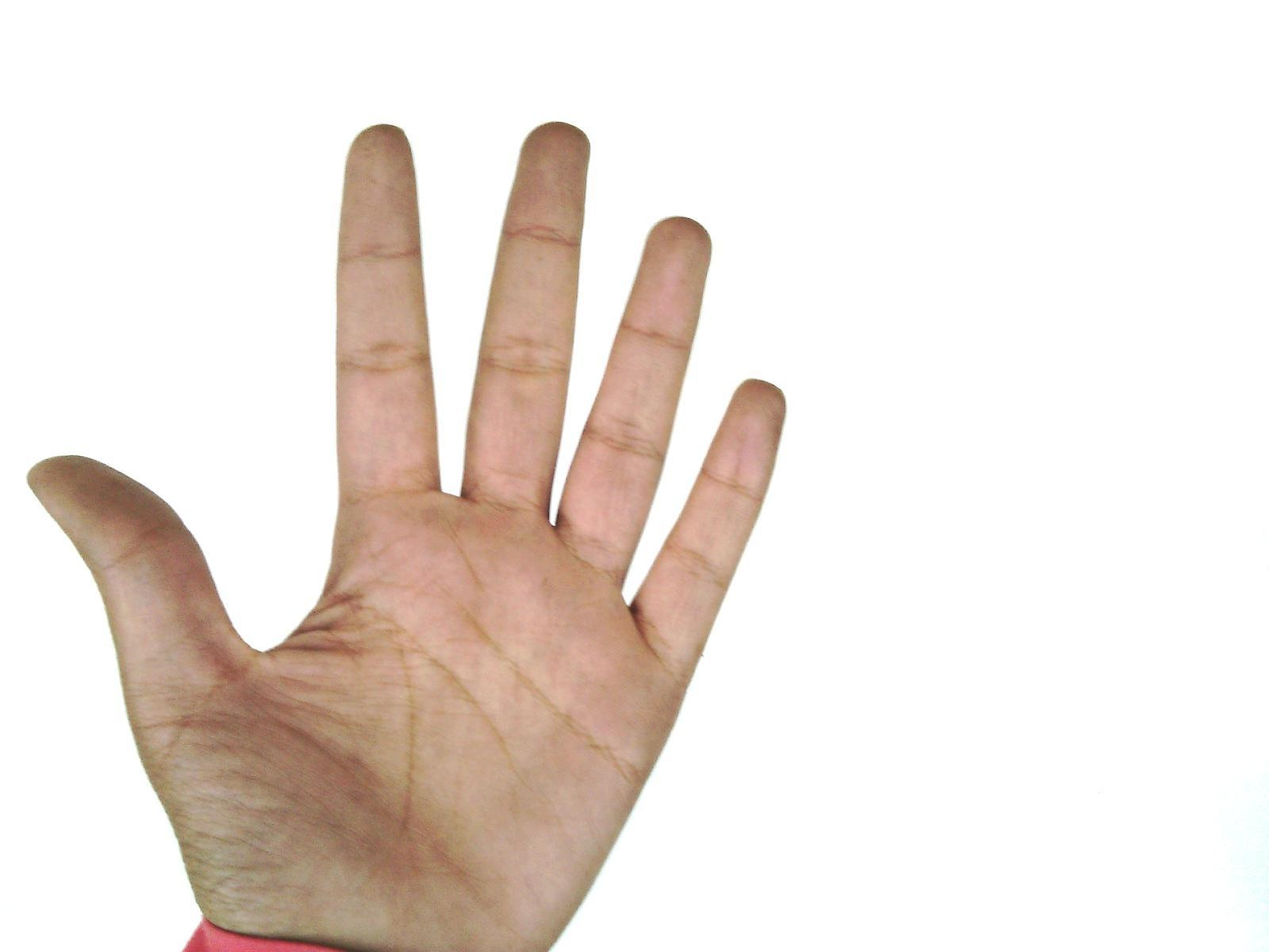open_palm: (26, 119, 790, 950)
